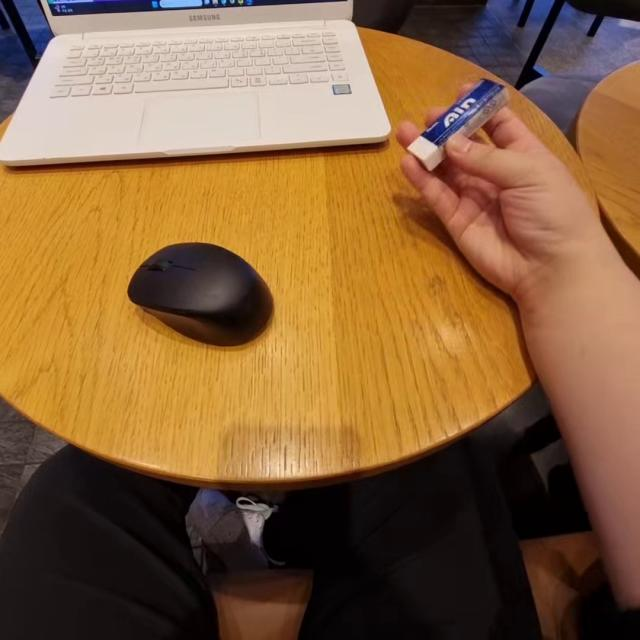grab_eraser: (383, 83, 612, 333)
mouse: (122, 248, 280, 358)
